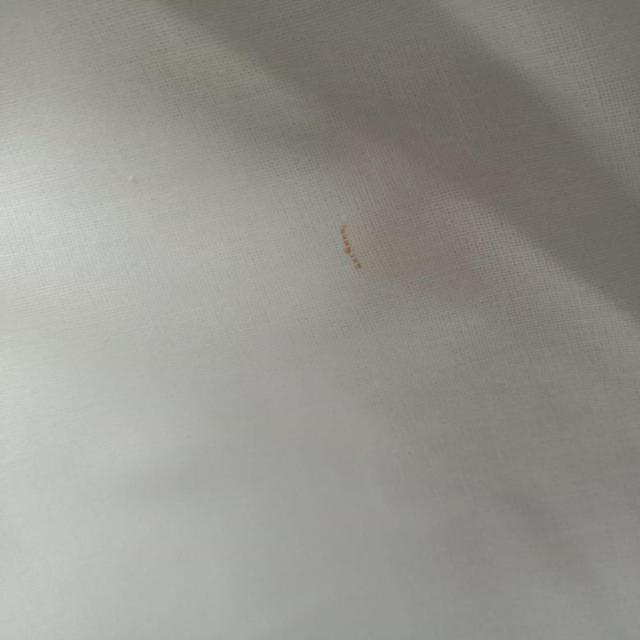contamination: (331, 217, 376, 275)
